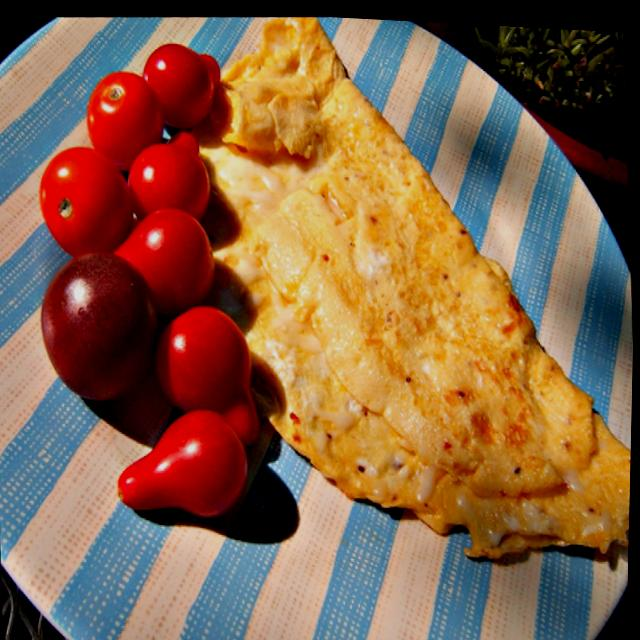鸡蛋料理: (127, 6, 640, 617)
